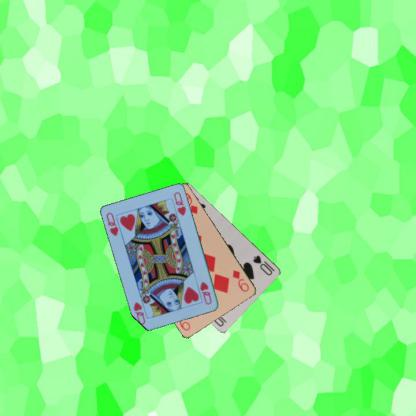10s: (251, 252, 274, 277)
9d: (230, 267, 251, 293)
Qh: (104, 210, 120, 237), (198, 279, 213, 306)
